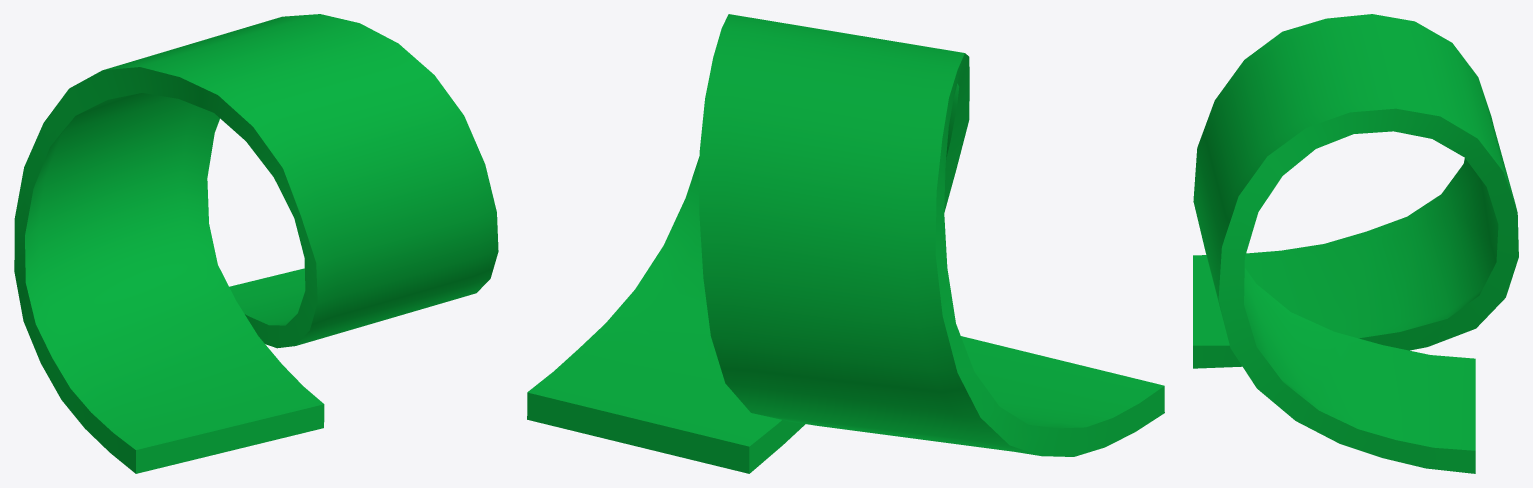
The model's file is basic_loop_small.gltf.
3 views of the same model, side by side, from view 1: azimuth 30°, elevation 25°; view 2: azimuth 150°, elevation 25°; view 3: azimuth 270°, elevation 25° (orthographic). The views are drawn at different scales.
Parts seen in each view (by area): view 1: basic_loop_small_glb; view 2: basic_loop_small_glb; view 3: basic_loop_small_glb.
Boxes of the visible parts, bbox=[...] form: basic_loop_small_glb: bbox=[14, 14, 498, 473]; basic_loop_small_glb: bbox=[527, 14, 1164, 473]; basic_loop_small_glb: bbox=[1193, 14, 1518, 473].
Size of what is drawn, in the model's own units: 4.5 by 3.37 by 3.17.
Materials: 1 (1 with a texture image).
